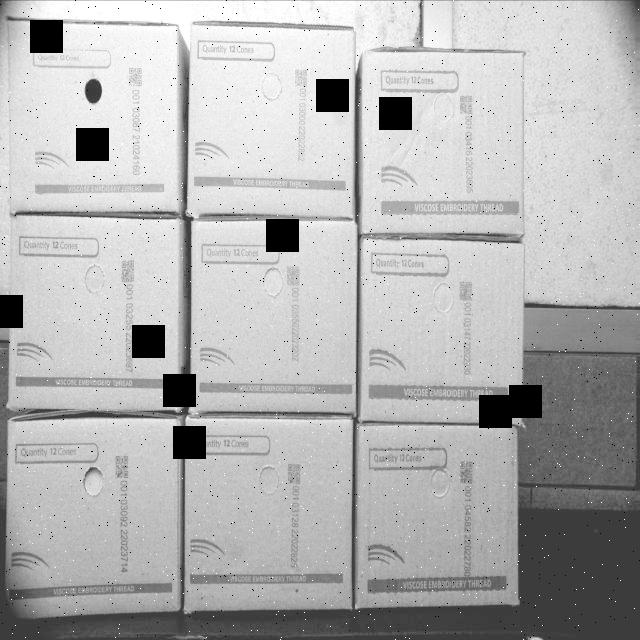box: (2, 414, 184, 620), (7, 14, 182, 212), (188, 413, 350, 618), (6, 220, 178, 411), (191, 217, 352, 419), (358, 48, 525, 240), (191, 17, 352, 215), (356, 242, 520, 424), (362, 426, 518, 615)
